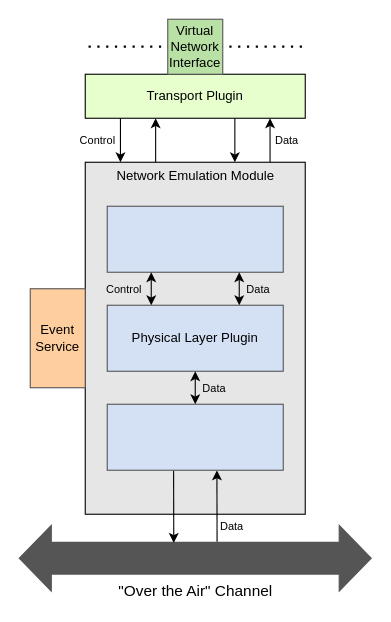
Some shapes in this 391 by 622 pixel diagram are drawn without their labels. Each missing label, with the box of its shape:
OTA Channel Manager: (106, 403, 283, 470)
Radio Model Plugin (MAC Layer Plugin): (106, 205, 283, 272)
